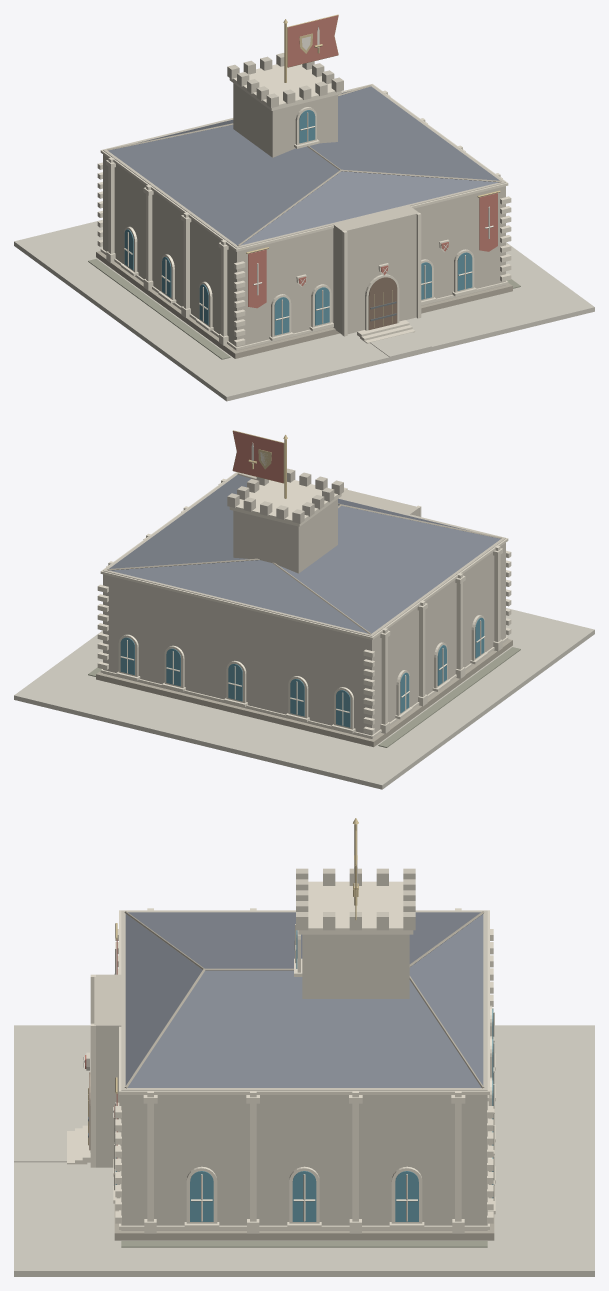
File: WarriorAcademy_Lv2.fbx
The picture shows the model from 3 angles, top to bottom: view 1: azimuth 30°, elevation 25°; view 2: azimuth 150°, elevation 25°; view 3: azimuth 270°, elevation 25°; orthographic projection. The views are drawn at different scales.
Parts seen in each view (by area): view 1: Slate hip roof.005, Fixed 26m plot.015, Main school walls.015, Projecting entrance bay.015, Central command tower.004, Window glass.015, School foundation.015, Decor side pilasters.015, Stone stringcourse.015, Window frame.015, Merlons.004, Battlement cornice.004 (+11 smaller); view 2: Main school walls.015, Slate hip roof.005, Fixed 26m plot.015, Central command tower.004, School foundation.015, Window glass.015, Stone stringcourse.015, Decor side pilasters.015, Window frame.015, Merlons.004, Battlement cornice.004, School icon flag cloth.015 (+6 smaller); view 3: Fixed 26m plot.015, Slate hip roof.005, Main school walls.015, Central command tower.004, Projecting entrance bay.015, Battlement cornice.004, Stone stringcourse.015, School foundation.015, Decor side pilasters.015, Window glass.015, Merlons.004, Grass edging.015 (+10 smaller).
Boxes of the visible parts, bbox=[...] form: Slate hip roof.005: bbox=[108, 86, 499, 245]; Fixed 26m plot.015: bbox=[14, 219, 594, 401]; Main school walls.015: bbox=[103, 84, 505, 350]; Projecting entrance bay.015: bbox=[333, 205, 418, 334]; Central command tower.004: bbox=[233, 83, 337, 157]; Window glass.015: bbox=[124, 110, 472, 335]; School foundation.015: bbox=[96, 251, 512, 358]; Decor side pilasters.015: bbox=[108, 90, 500, 336]; Stone stringcourse.015: bbox=[100, 84, 508, 350]; Window frame.015: bbox=[124, 107, 474, 337]; Merlons.004: bbox=[227, 53, 343, 107]; Battlement cornice.004: bbox=[229, 64, 341, 110]; Main school walls.015: bbox=[103, 472, 505, 738]; Slate hip roof.005: bbox=[109, 474, 500, 633]; Fixed 26m plot.015: bbox=[14, 608, 594, 789]; Central command tower.004: bbox=[233, 499, 337, 573]; School foundation.015: bbox=[96, 639, 512, 747]; Window glass.015: bbox=[120, 617, 484, 727]; Stone stringcourse.015: bbox=[100, 472, 508, 738]; Decor side pilasters.015: bbox=[108, 478, 500, 724]; Window frame.015: bbox=[118, 615, 484, 729]; Merlons.004: bbox=[227, 468, 343, 523]; Battlement cornice.004: bbox=[229, 480, 341, 526]; School icon flag cloth.015: bbox=[233, 431, 283, 482]; Fixed 26m plot.015: bbox=[14, 1025, 594, 1276]; Slate hip roof.005: bbox=[125, 912, 483, 1087]; Main school walls.015: bbox=[121, 910, 487, 1230]; Central command tower.004: bbox=[302, 934, 409, 998]; Projecting entrance bay.015: bbox=[94, 974, 125, 1167]; Battlement cornice.004: bbox=[298, 881, 413, 934]; Stone stringcourse.015: bbox=[119, 910, 489, 1229]; School foundation.015: bbox=[114, 1204, 494, 1240]; Decor side pilasters.015: bbox=[147, 908, 461, 1221]; Window glass.015: bbox=[115, 930, 493, 1221]; Merlons.004: bbox=[296, 868, 415, 930]; Grass edging.015: bbox=[121, 1241, 487, 1247].
Size of the model in its own units: 26 by 16.59 by 26.
